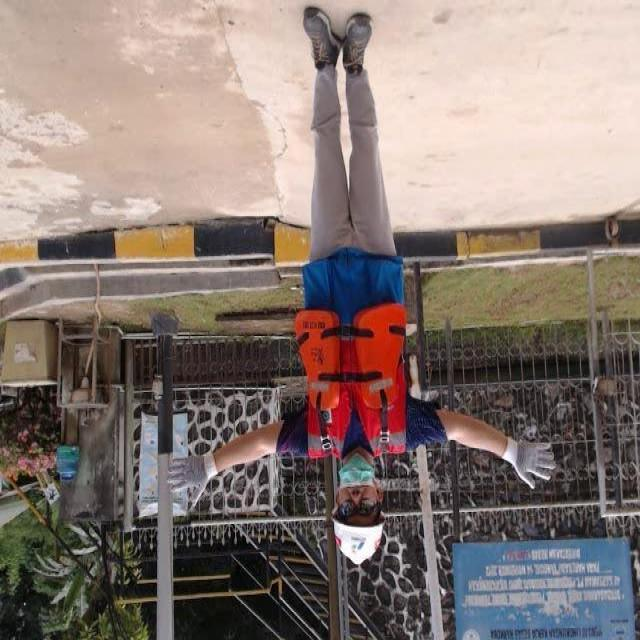helmet: (324, 520, 390, 568)
jacket: (284, 305, 424, 463)
